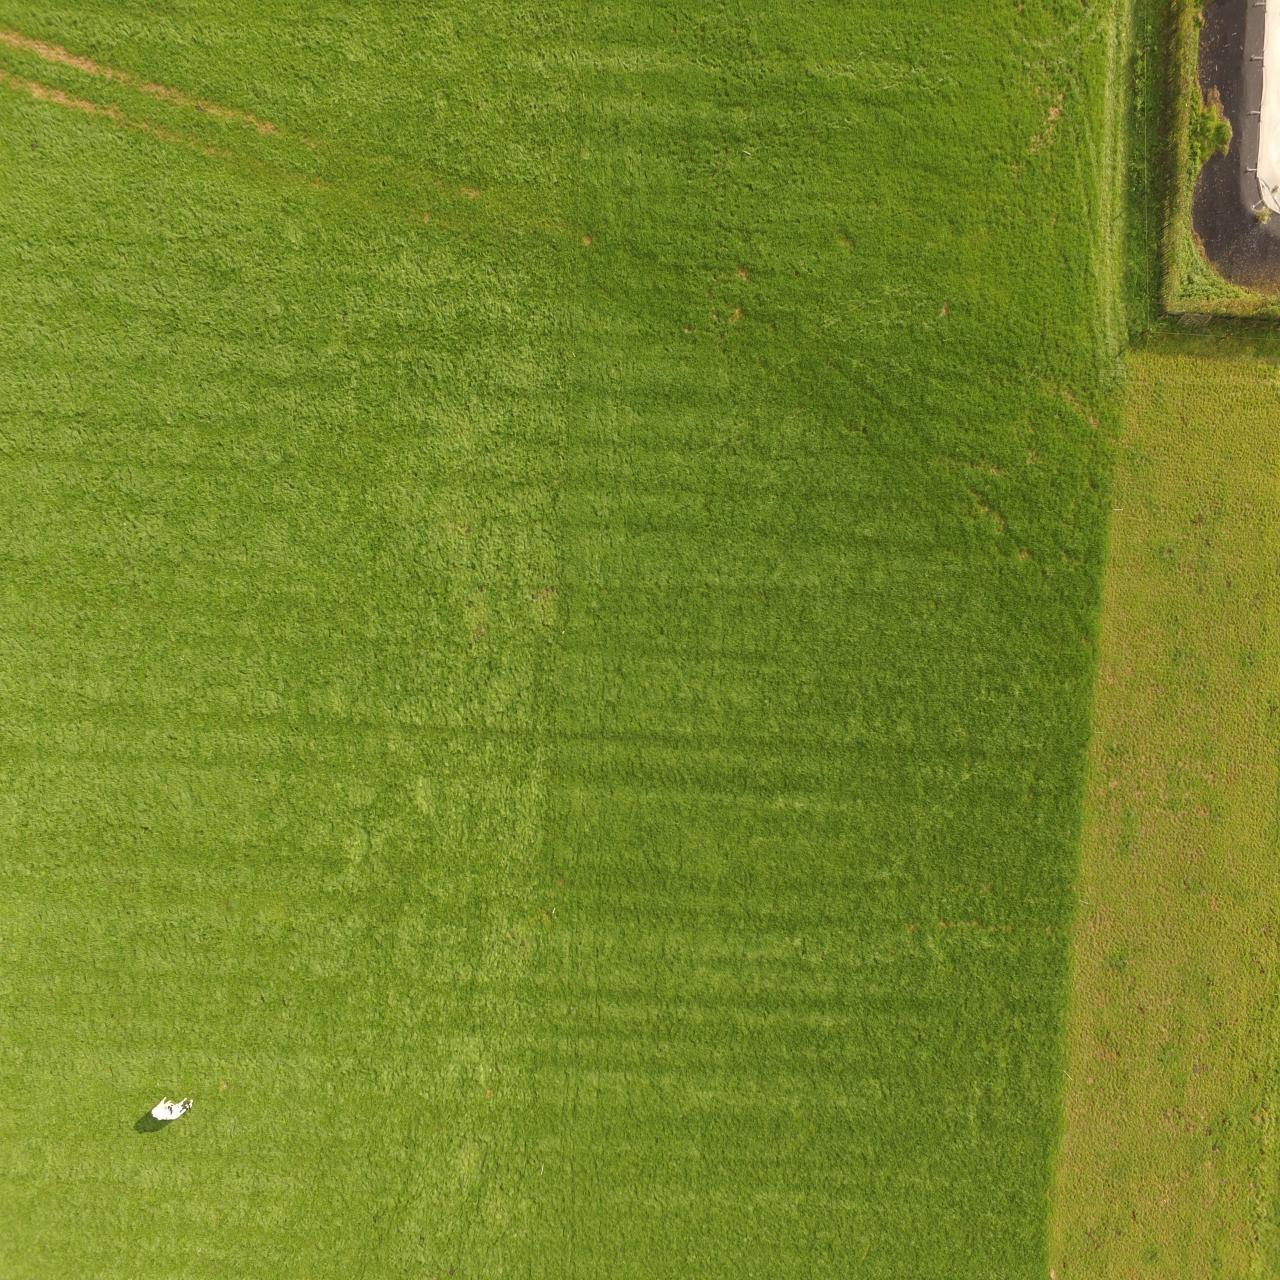cow: (142, 1092, 195, 1132)
